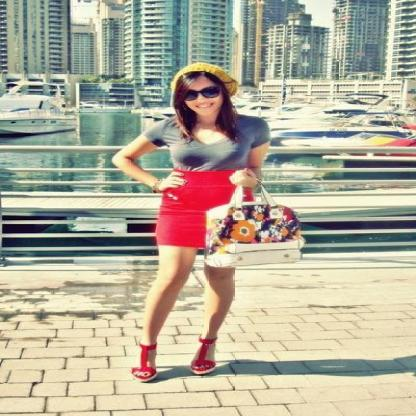bag: (194, 186, 315, 274)
hat: (176, 55, 244, 97)
shirt: (151, 114, 291, 172)
shoe: (192, 348, 216, 371)
skirt: (152, 168, 236, 247)
